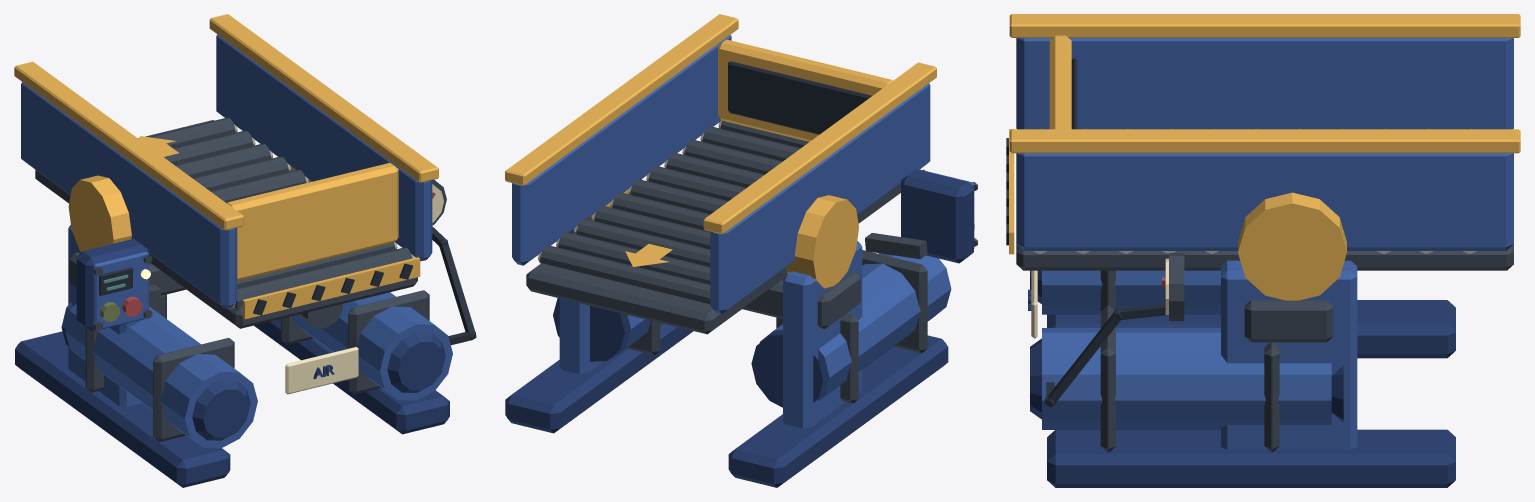
File: mach_pneumatic_launcher.glb
The picture shows the model from 3 angles, left to right: view 1: azimuth 30°, elevation 25°; view 2: azimuth 150°, elevation 25°; view 3: azimuth 270°, elevation 25°; orthographic projection. The views are drawn at different scales.
Visible parts, largest first — view 1: mach_pneumatic_launcher__launch_sidewall_-1, mach_pneumatic_launcher__launch_sidewall_1, mach_pneumatic_launcher__pusher_plate, mach_pneumatic_launcher__pressure_tank_-1, mach_pneumatic_launcher, mach_pneumatic_launcher__launcher_skid_-0.45, mach_pneumatic_launcher__launch_lip_1, mach_pneumatic_launcher__launch_lip_-1, mach_pneumatic_launcher__launcher_skid_0.45, mach_pneumatic_launcher__launch_trunnion_-1, mach_pneumatic_launcher__launch_bed, mach_pneumatic_launcher__launcher_warning_yellow (+20 smaller); view 2: mach_pneumatic_launcher__launch_sidewall_1, mach_pneumatic_launcher__launch_sidewall_-1, mach_pneumatic_launcher__launcher_skid_-0.45, mach_pneumatic_launcher__pressure_tank_-1, mach_pneumatic_launcher__launch_bed, mach_pneumatic_launcher__launcher_leg_-0.45, mach_pneumatic_launcher__launch_lip_-1, mach_pneumatic_launcher__launch_lip_1, mach_pneumatic_launcher__launcher_skid_0.45, mach_pneumatic_launcher__pusher_pad, mach_pneumatic_launcher__launch_control_housing, mach_pneumatic_launcher__pusher_plate (+22 smaller); view 3: mach_pneumatic_launcher__launch_sidewall_1, mach_pneumatic_launcher__launch_sidewall_-1, mach_pneumatic_launcher, mach_pneumatic_launcher__launcher_skid_0.45, mach_pneumatic_launcher__launch_lip_1, mach_pneumatic_launcher__launch_lip_-1, mach_pneumatic_launcher__launcher_leg_0.45, mach_pneumatic_launcher__launch_trunnion_1, mach_pneumatic_launcher__launcher_skid_-0.45, mach_pneumatic_launcher__launch_bed, mach_pneumatic_launcher__pressure_tank_-1, mach_pneumatic_launcher__launcher_crossbeam (+8 smaller).
Boxes of the visible parts, <box> form: mach_pneumatic_launcher__launch_sidewall_-1: <box>21,82,237,308</box>; mach_pneumatic_launcher__launch_sidewall_1: <box>216,34,432,261</box>; mach_pneumatic_launcher__pusher_plate: <box>227,163,398,280</box>; mach_pneumatic_launcher__pressure_tank_-1: <box>65,303,257,448</box>; mach_pneumatic_launcher: <box>94,226,476,400</box>; mach_pneumatic_launcher__launcher_skid_-0.45: <box>15,331,230,487</box>; mach_pneumatic_launcher__launch_lip_1: <box>209,14,438,182</box>; mach_pneumatic_launcher__launch_lip_-1: <box>14,61,243,230</box>; mach_pneumatic_launcher__launcher_skid_0.45: <box>254,319,449,434</box>; mach_pneumatic_launcher__launch_trunnion_-1: <box>68,175,131,252</box>; mach_pneumatic_launcher__launch_bed: <box>35,120,417,328</box>; mach_pneumatic_launcher__launcher_warning_yellow: <box>242,257,420,319</box>; mach_pneumatic_launcher__launch_sidewall_1: <box>512,35,731,265</box>; mach_pneumatic_launcher__launch_sidewall_-1: <box>710,83,930,313</box>; mach_pneumatic_launcher__launcher_skid_-0.45: <box>728,335,948,487</box>; mach_pneumatic_launcher__pressure_tank_-1: <box>760,253,951,400</box>; mach_pneumatic_launcher__launch_bed: <box>526,183,900,334</box>; mach_pneumatic_launcher__launcher_leg_-0.45: <box>783,241,862,428</box>; mach_pneumatic_launcher__launch_lip_-1: <box>703,62,936,234</box>; mach_pneumatic_launcher__launch_lip_1: <box>505,14,738,185</box>; mach_pneumatic_launcher__launcher_skid_0.45: <box>505,323,693,433</box>; mach_pneumatic_launcher__pusher_pad: <box>728,61,871,134</box>; mach_pneumatic_launcher__launch_control_housing: <box>901,169,973,263</box>; mach_pneumatic_launcher__pusher_plate: <box>718,39,892,141</box>; mach_pneumatic_launcher__launch_sidewall_1: <box>1016,153,1513,250</box>; mach_pneumatic_launcher__launch_sidewall_-1: <box>1016,38,1513,129</box>; mach_pneumatic_launcher: <box>1006,138,1331,429</box>; mach_pneumatic_launcher__launcher_skid_0.45: <box>1047,429,1455,487</box>; mach_pneumatic_launcher__launch_lip_1: <box>1009,129,1520,153</box>; mach_pneumatic_launcher__launch_lip_-1: <box>1009,14,1520,37</box>; mach_pneumatic_launcher__launcher_leg_0.45: <box>1221,260,1357,449</box>; mach_pneumatic_launcher__launch_trunnion_1: <box>1238,192,1346,300</box>; mach_pneumatic_launcher__launcher_skid_-0.45: <box>1047,300,1455,358</box>; mach_pneumatic_launcher__launch_bed: <box>1016,244,1513,270</box>; mach_pneumatic_launcher__pressure_tank_-1: <box>1042,270,1220,314</box>; mach_pneumatic_launcher__launcher_crossbeam: <box>1244,300,1333,342</box>.
Bounding box in the file's own units: 1.54 × 1.08 × 1.51.
